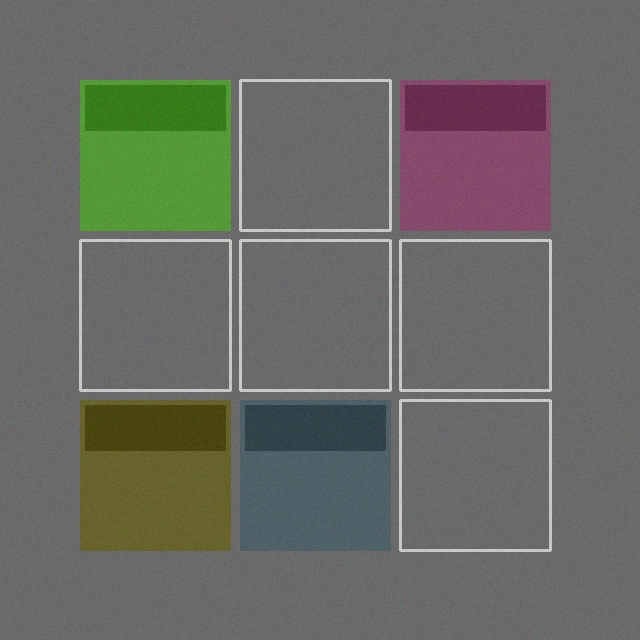space-empty: (240, 80, 390, 230), (80, 240, 230, 390), (240, 240, 390, 390), (400, 240, 550, 390), (400, 400, 550, 550)
space-occupied: (80, 80, 230, 230), (400, 80, 550, 230), (80, 400, 230, 550), (240, 400, 390, 550)
